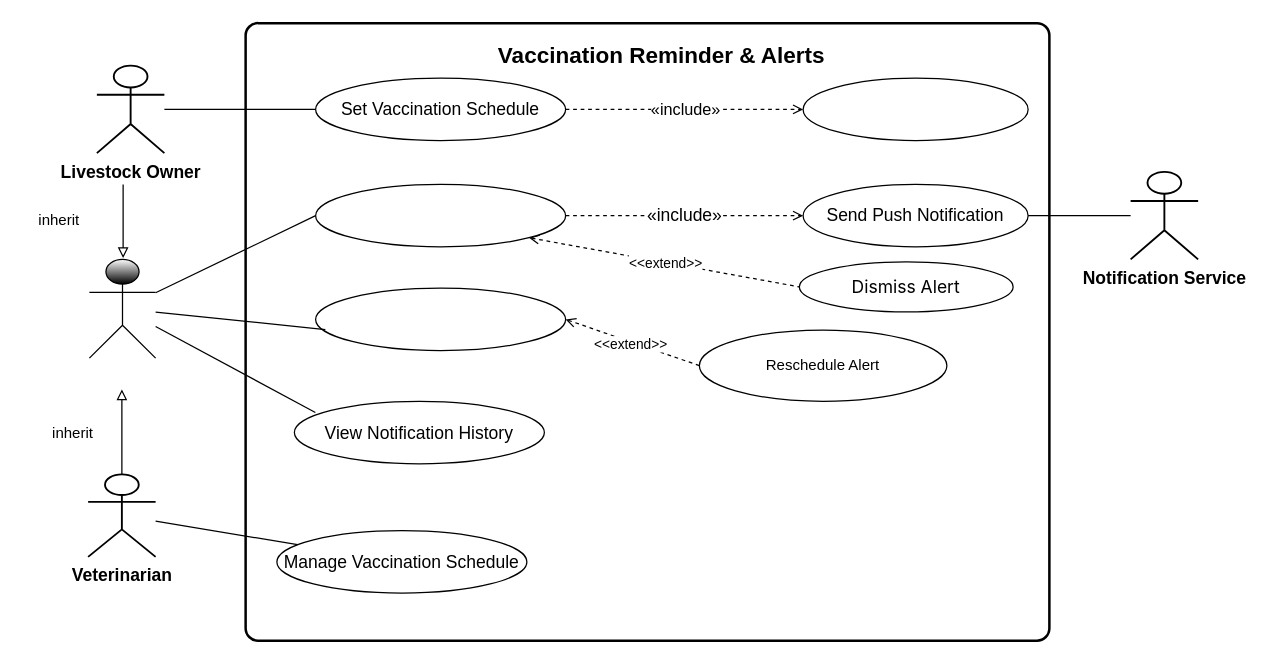
This 1266x663 diagram has some shape labels left out. Here are the shapes that lost their labels. From the top down, the box of each, then its label:
(802, 77, 1028, 141): Generate Schedule from Livestock Records
(314, 183, 566, 247): Receive Vaccination Reminder
(88, 258, 156, 358): User
(314, 287, 566, 351): View Upcoming Reminders
